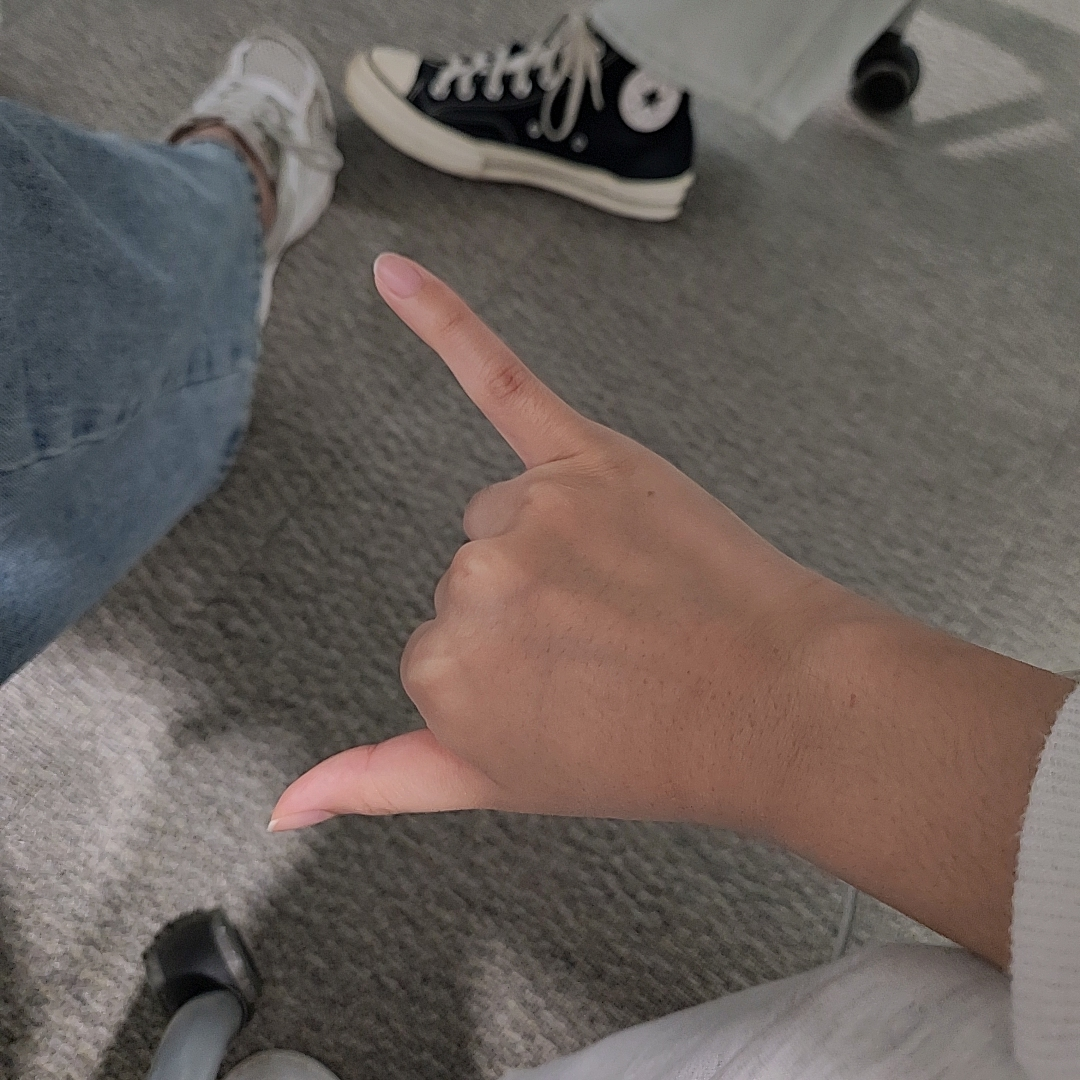call: (264, 251, 745, 836)
